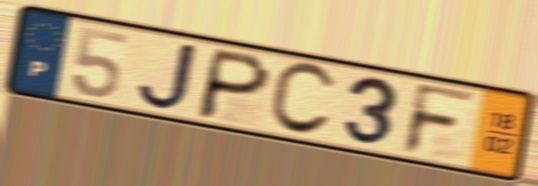3: (339, 75, 405, 151)
5: (69, 24, 131, 100)
C: (265, 60, 340, 139)
F: (398, 80, 481, 159)
J: (133, 39, 202, 112)
P: (191, 46, 276, 124)
